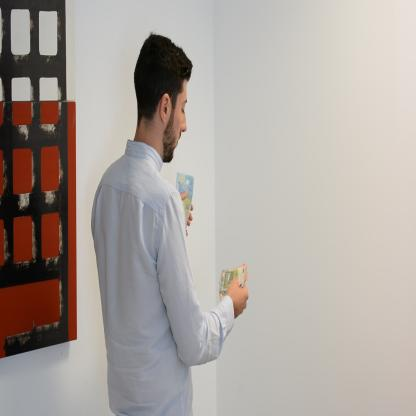billete: (218, 261, 248, 300), (176, 172, 193, 226)
